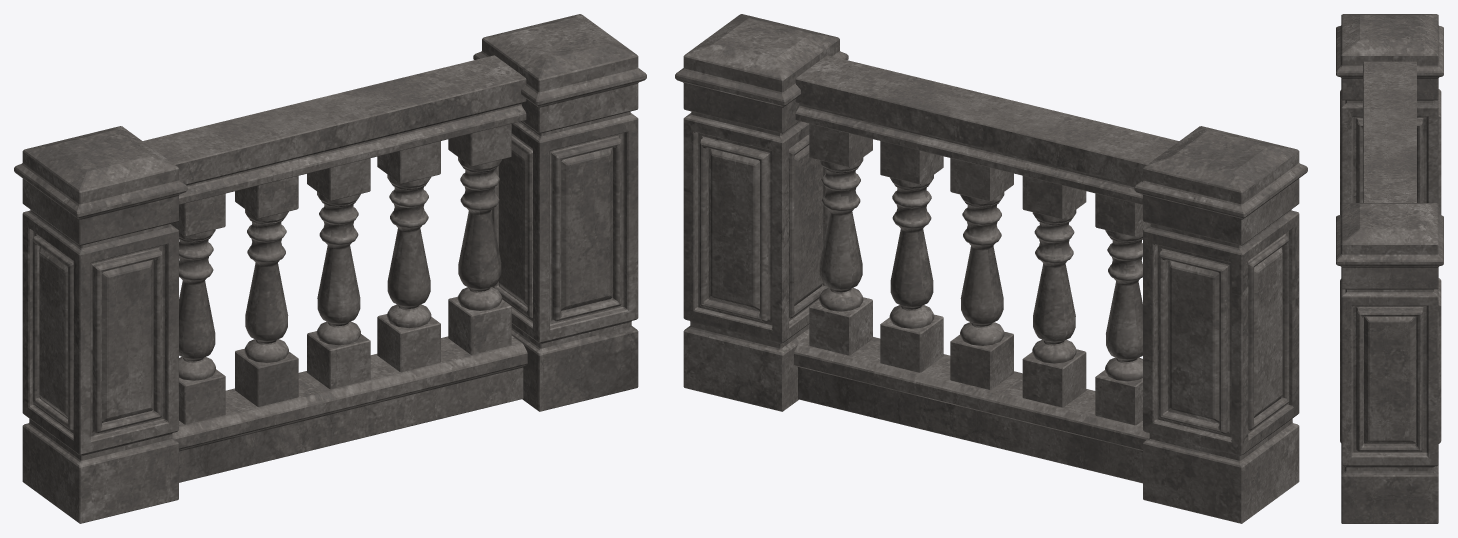
The model's file is SK6 RAILING SHORT.fbx.
3 renders of one model, left to right at view 1: azimuth 30°, elevation 25°; view 2: azimuth 150°, elevation 25°; view 3: azimuth 270°, elevation 25°, orthographic. The views are drawn at different scales.
Parts seen in each view (by area): view 1: SK6 RAILING SHORT; view 2: SK6 RAILING SHORT; view 3: SK6 RAILING SHORT.
Boxes of the visible parts, bbox=[...] form: SK6 RAILING SHORT: bbox=[14, 14, 646, 523]; SK6 RAILING SHORT: bbox=[675, 14, 1307, 523]; SK6 RAILING SHORT: bbox=[1336, 14, 1443, 523].
Bounding box in the file's own units: 204 × 116 × 39.62.
